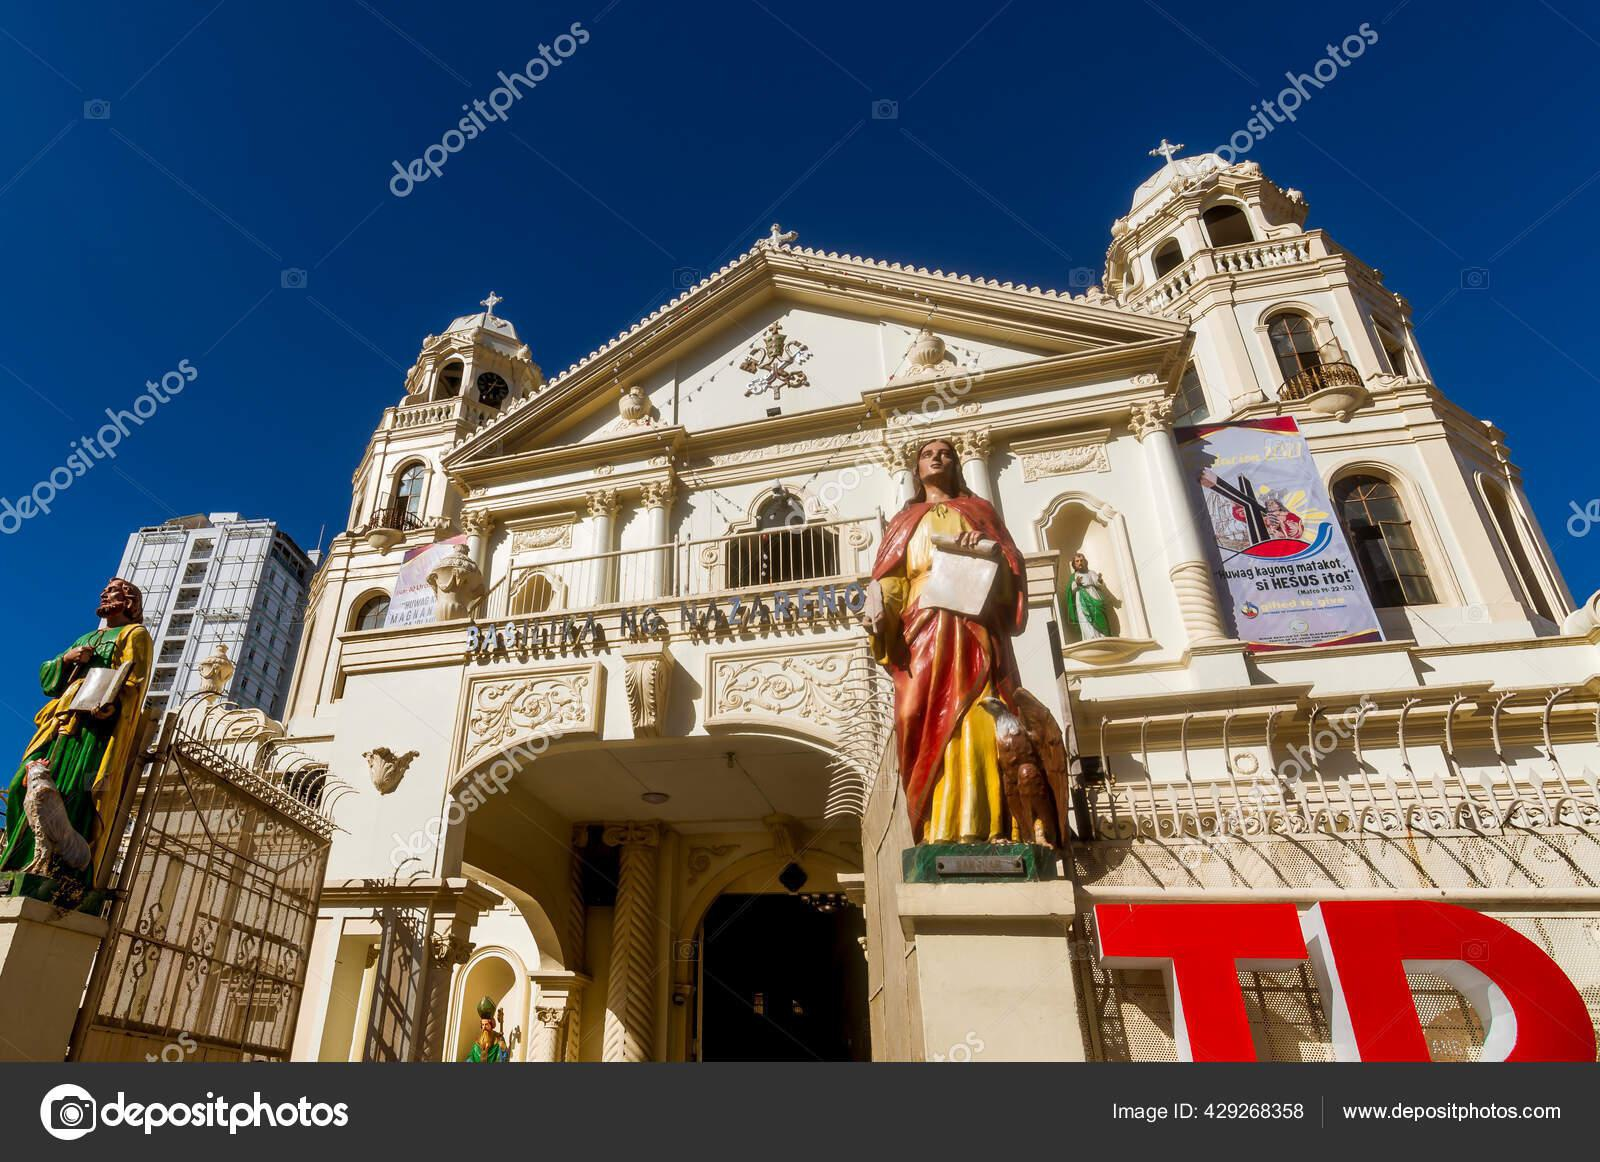quiapo_church_quiapo_manila: (272, 113, 1591, 1060)
